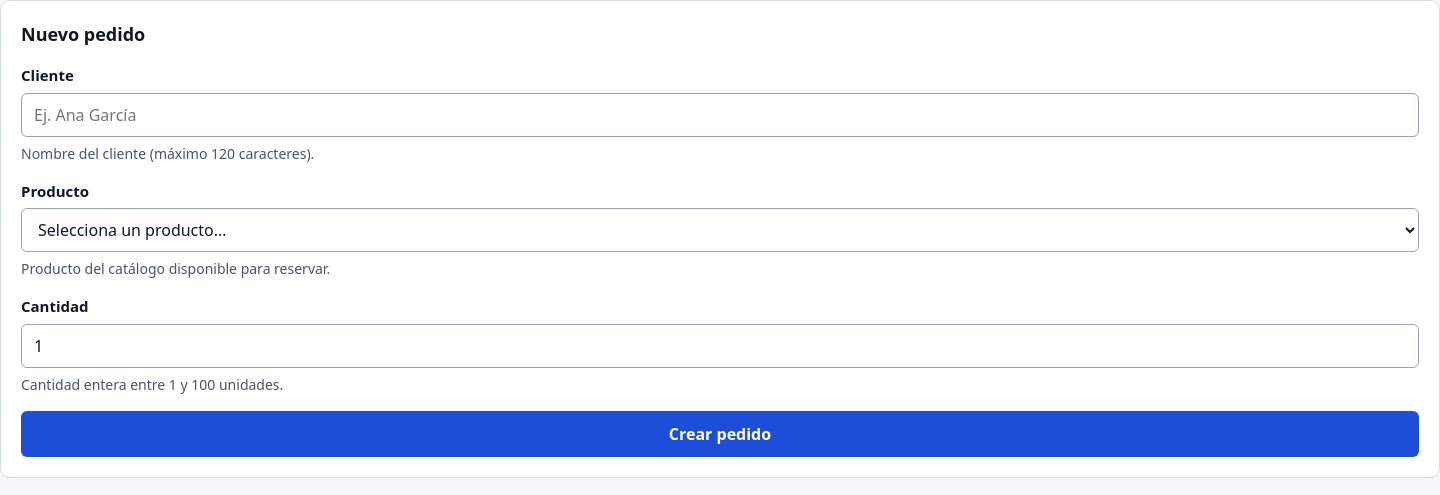
Test: OrderForm and OrderList › shows validation errors and does not call the API when submitted invalid
Replace the text in the number field labelled "Cantidad" with "0" at (720, 346), box [21, 324, 1419, 368]
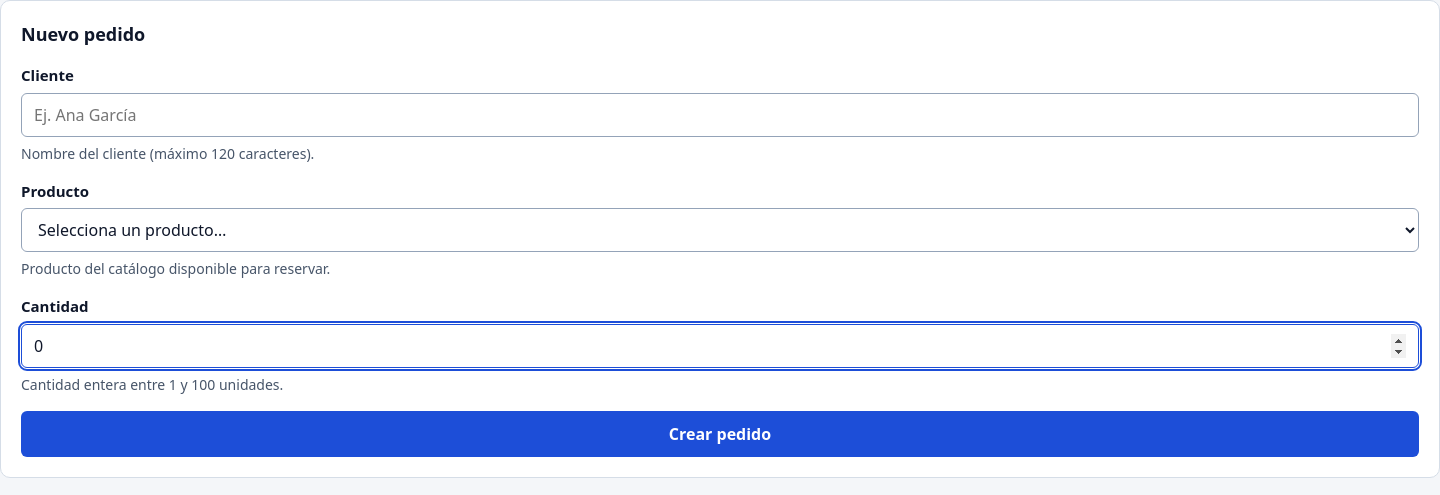
Click the button "Crear pedido" at (720, 434), box [21, 410, 1419, 456]
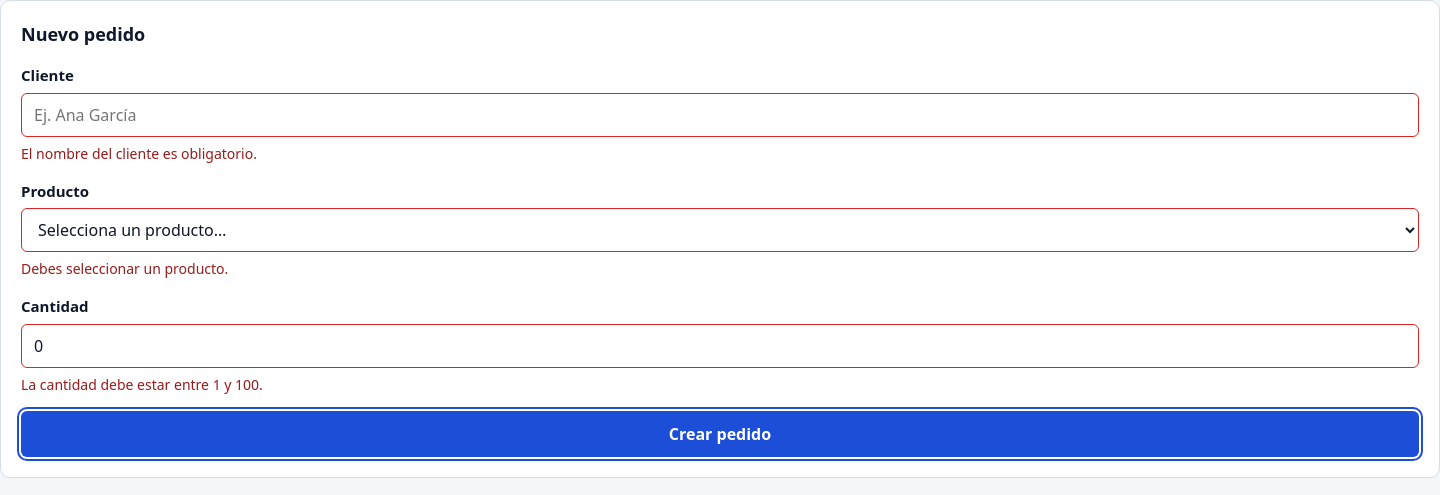
Expected: the text "El nombre del cliente es obligatorio." is shown, [21, 144, 257, 162]
Expected: the text "Debes seleccionar un producto." is shown, [21, 259, 228, 278]
Expected: the text "La cantidad debe estar entre 1 y 100." is shown, [21, 374, 263, 394]
